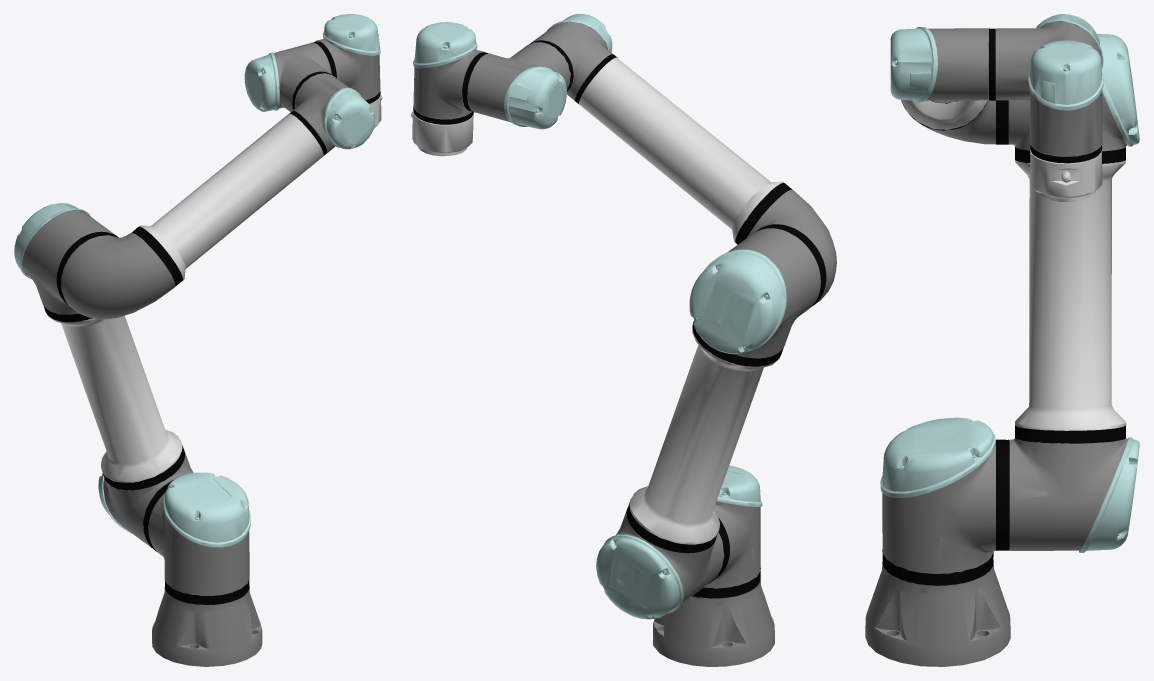
3 renders of one model, left to right at view 1: azimuth 30°, elevation 25°; view 2: azimuth 150°, elevation 25°; view 3: azimuth 270°, elevation 25°, orthographic. The views are drawn at different scales.
Visible parts, largest first — view 1: WEB_ur5e; view 2: WEB_ur5e; view 3: WEB_ur5e.
Boxes of the visible parts, x1,y1,x2,y2 form: WEB_ur5e: (14,14,382,666); WEB_ur5e: (411,14,836,666); WEB_ur5e: (865,14,1139,666).
Bounding box in the file's own units: 0.5496 × 0.8129 × 0.2855.
